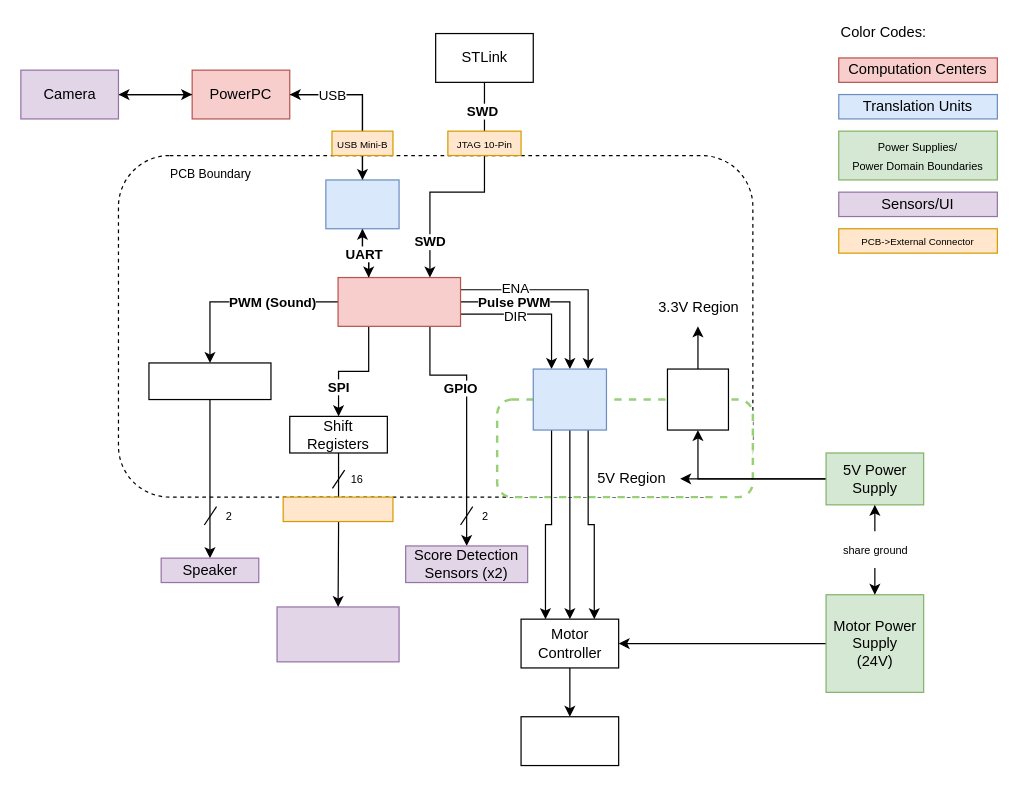
Some shapes in this 1020 by 787 pixel diagram are drawn without their labels. The shapes that lost their labels are listed below. From the top down, each one's centre as x and y in pixels, then its label:
At (x=362, y=204): "USB/UART Translator".
At (x=399, y=301): "Microcontroller".
At (x=209, y=381): "Analog Amplifier".
At (x=569, y=399): "3.3V to 5V Level Translator IC".
At (x=697, y=399): "LDO (5V-->3.3V)".
At (x=337, y=509): "8-Pin Connector (x2)".
At (x=337, y=634): "7 Segment Display Scoreboard".
At (x=569, y=741): "Stepper Motor (x2)".
